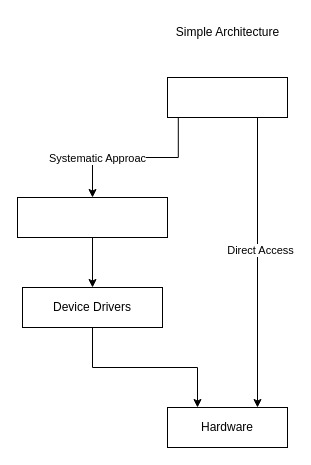
Image size: 311x465. Some labels were removed from this diagram. The shapes that lost their labels are listed below. From the top down, each one's box as (x1, y1, x2, y2) in pixels, then its label:
(166, 76, 288, 118): Application
(16, 196, 168, 238): System Programs
